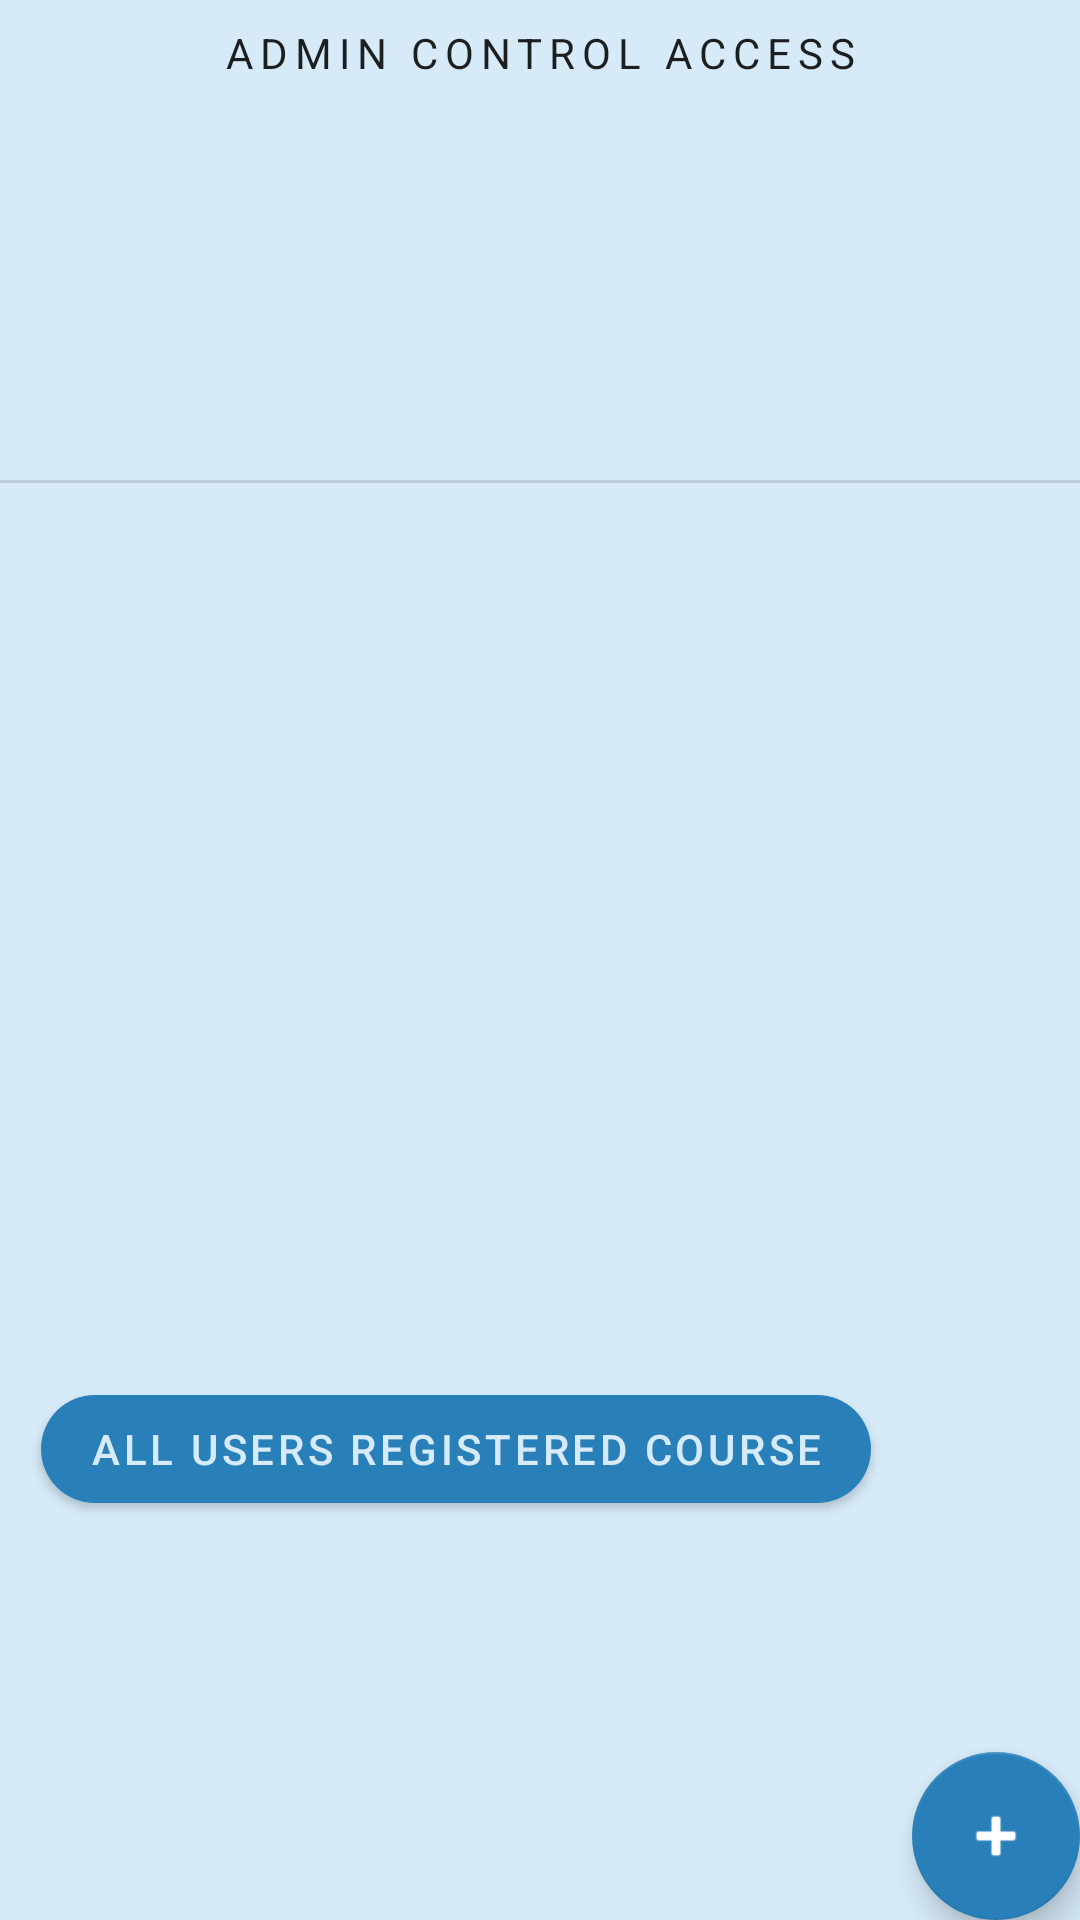

Icons on this 1080*1920 Android screen, each with the point to tap as (x=x, y=y):
Add New Item: (x=996, y=1836)
